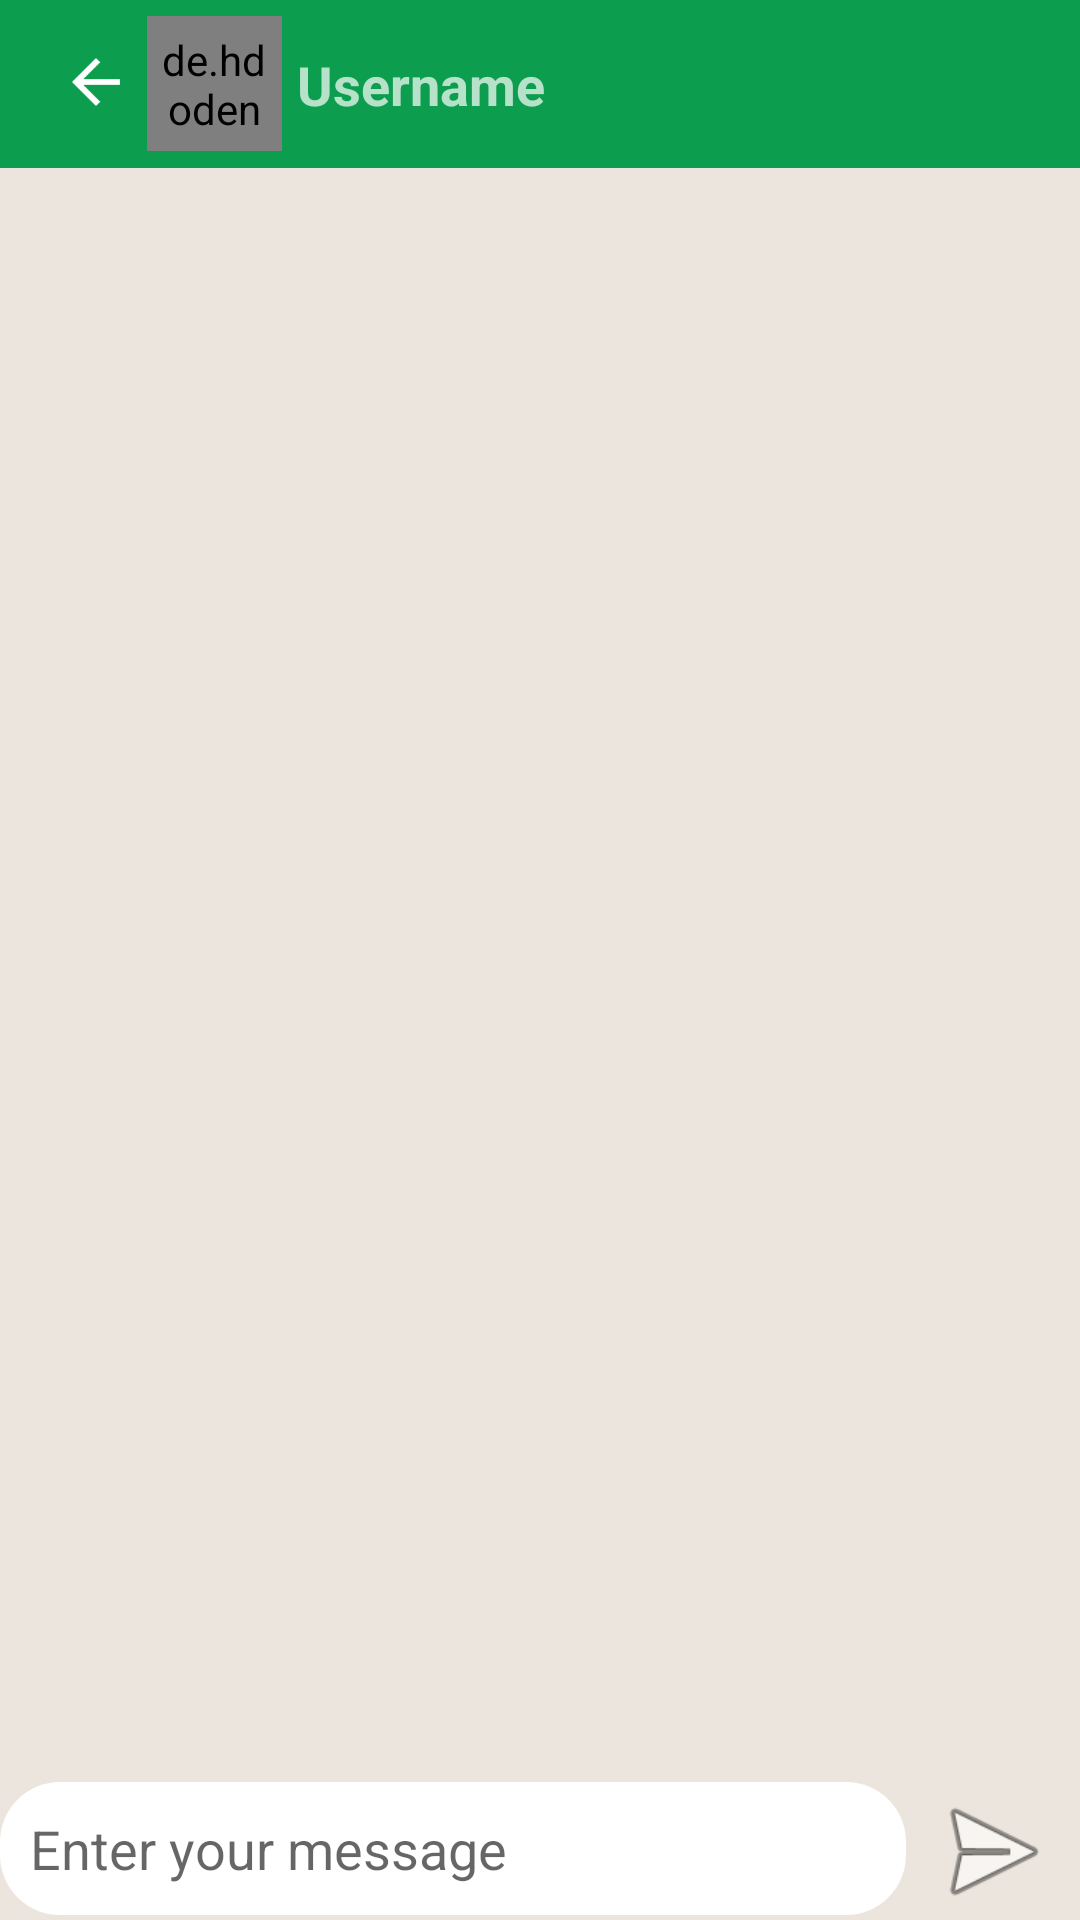

Screen size 1080 x 1920. Icon name, then its center in pixels as (x,y):
send: (994,1851)
